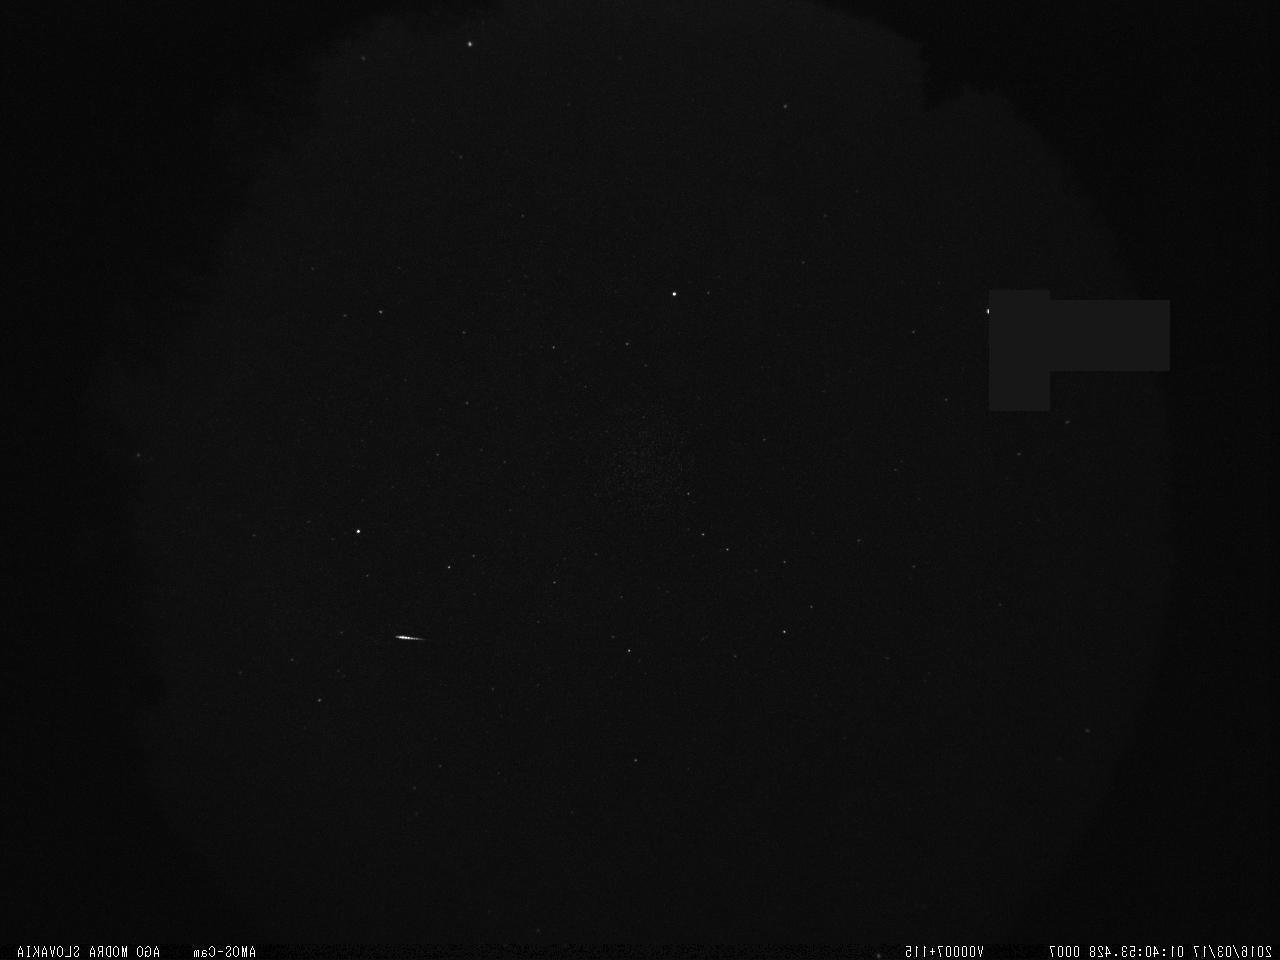meteor: (387, 622, 429, 656)
